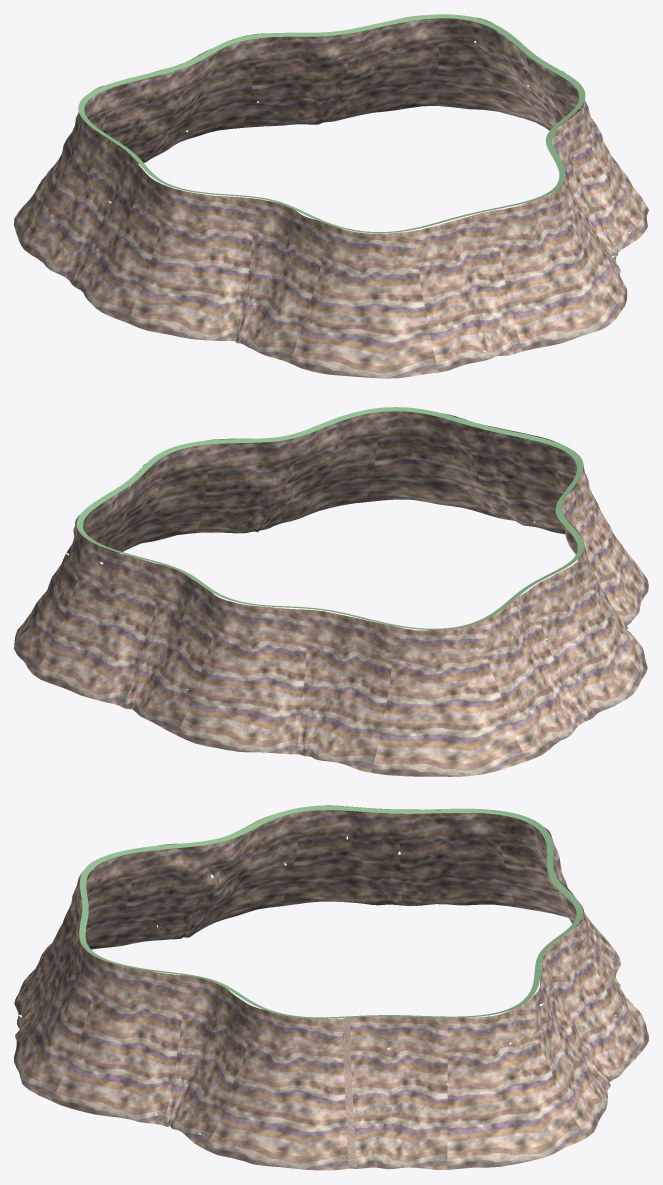
File: CliffWall_plateau_southeast.glb
3 views of the same model, one above another, from view 1: azimuth 30°, elevation 25°; view 2: azimuth 150°, elevation 25°; view 3: azimuth 270°, elevation 25° (orthographic). The views are drawn at different scales.
Parts seen in each view (by area): view 1: CliffWall_plateau_southeast-rock0, CliffWall_plateau_southeast-lip0; view 2: CliffWall_plateau_southeast-rock0, CliffWall_plateau_southeast-lip0; view 3: CliffWall_plateau_southeast-rock0, CliffWall_plateau_southeast-lip0.
Part boxes in pixels (<box>): CliffWall_plateau_southeast-rock0: <box>14,15,648,378</box>; CliffWall_plateau_southeast-lip0: <box>78,14,585,233</box>; CliffWall_plateau_southeast-rock0: <box>14,411,648,776</box>; CliffWall_plateau_southeast-lip0: <box>76,407,583,629</box>; CliffWall_plateau_southeast-rock0: <box>14,805,648,1170</box>; CliffWall_plateau_southeast-lip0: <box>79,806,582,1018</box>.
Size of the model in its own units: 576 by 124 by 575.
4 materials, 1 textured.
